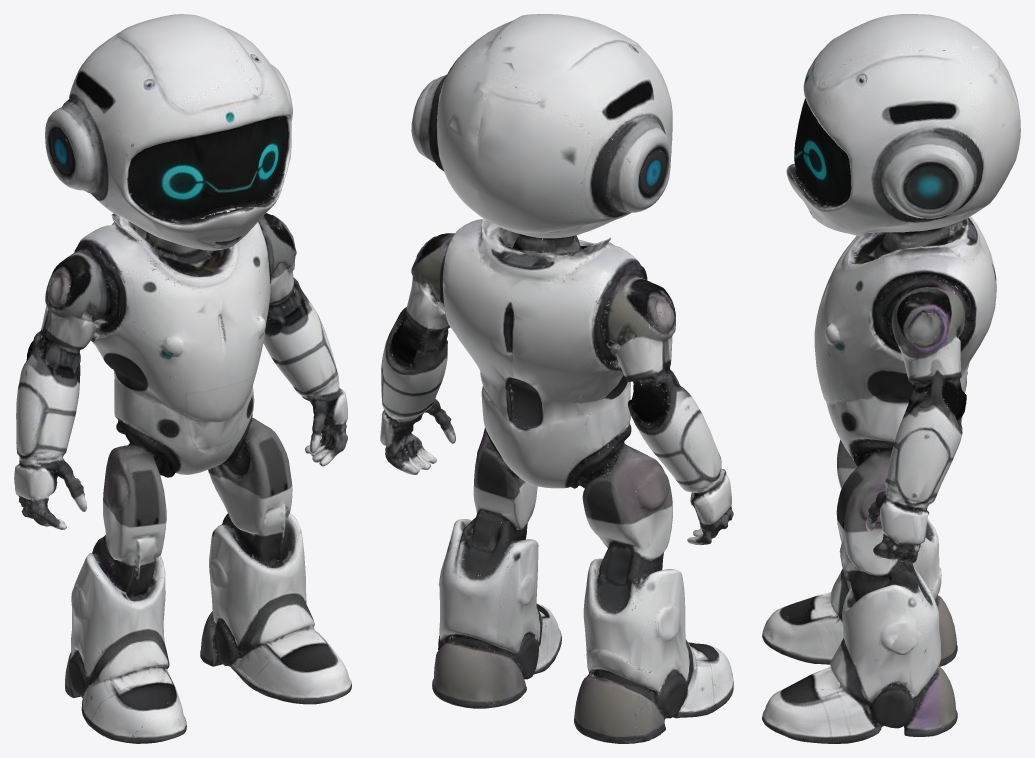
The model's file is kyntri-robot.glb.
The picture shows the model from 3 angles, left to right: view 1: azimuth 30°, elevation 25°; view 2: azimuth 150°, elevation 25°; view 3: azimuth 270°, elevation 25°; orthographic projection. The views are drawn at different scales.
Size of the model in its own units: 1.04 by 2 by 0.7102.
Materials: 1 (1 with a texture image).
